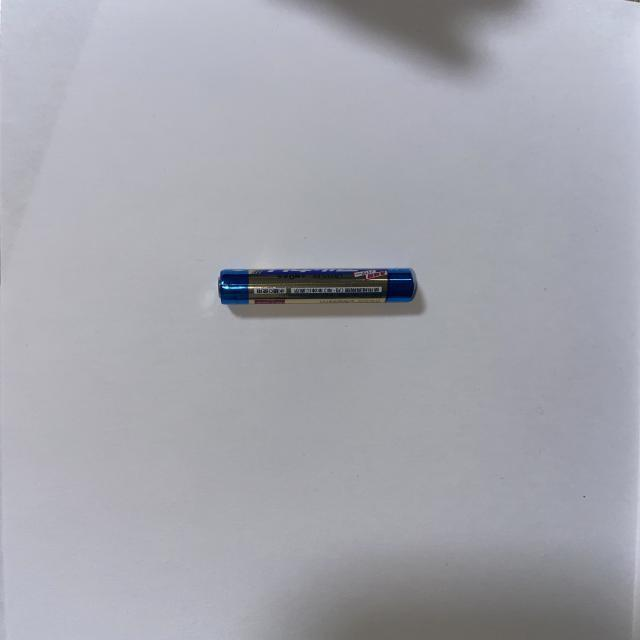Hazard: (214, 263, 420, 308)
